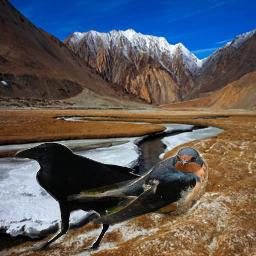Crow: (13, 142, 181, 254)
Swallow: (67, 146, 208, 224)
